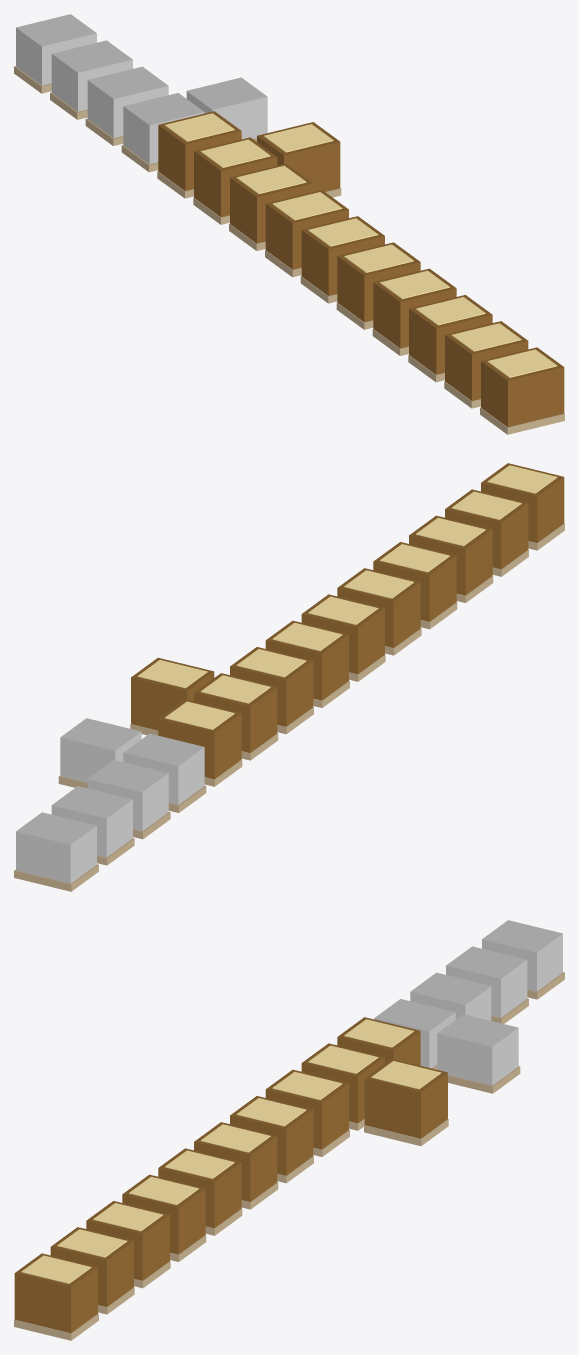
The model's file is SM_CargaViveres_Mitad_LOD1.fbx.
3 renders of one model, top to bottom at view 1: azimuth 30°, elevation 25°; view 2: azimuth 150°, elevation 25°; view 3: azimuth 330°, elevation 25°, orthographic.
Parts seen in each view (by area): view 1: SM_carga_vagon_v16_LOD1; view 2: SM_carga_vagon_v16_LOD1; view 3: SM_carga_vagon_v16_LOD1.
Boxes of the visible parts, x1,y1,x2,y2 form: SM_carga_vagon_v16_LOD1: (14, 14, 564, 434); SM_carga_vagon_v16_LOD1: (14, 463, 564, 891); SM_carga_vagon_v16_LOD1: (14, 920, 564, 1340).
Size of the model in its own units: 2.52 by 1.09 by 17.9.
